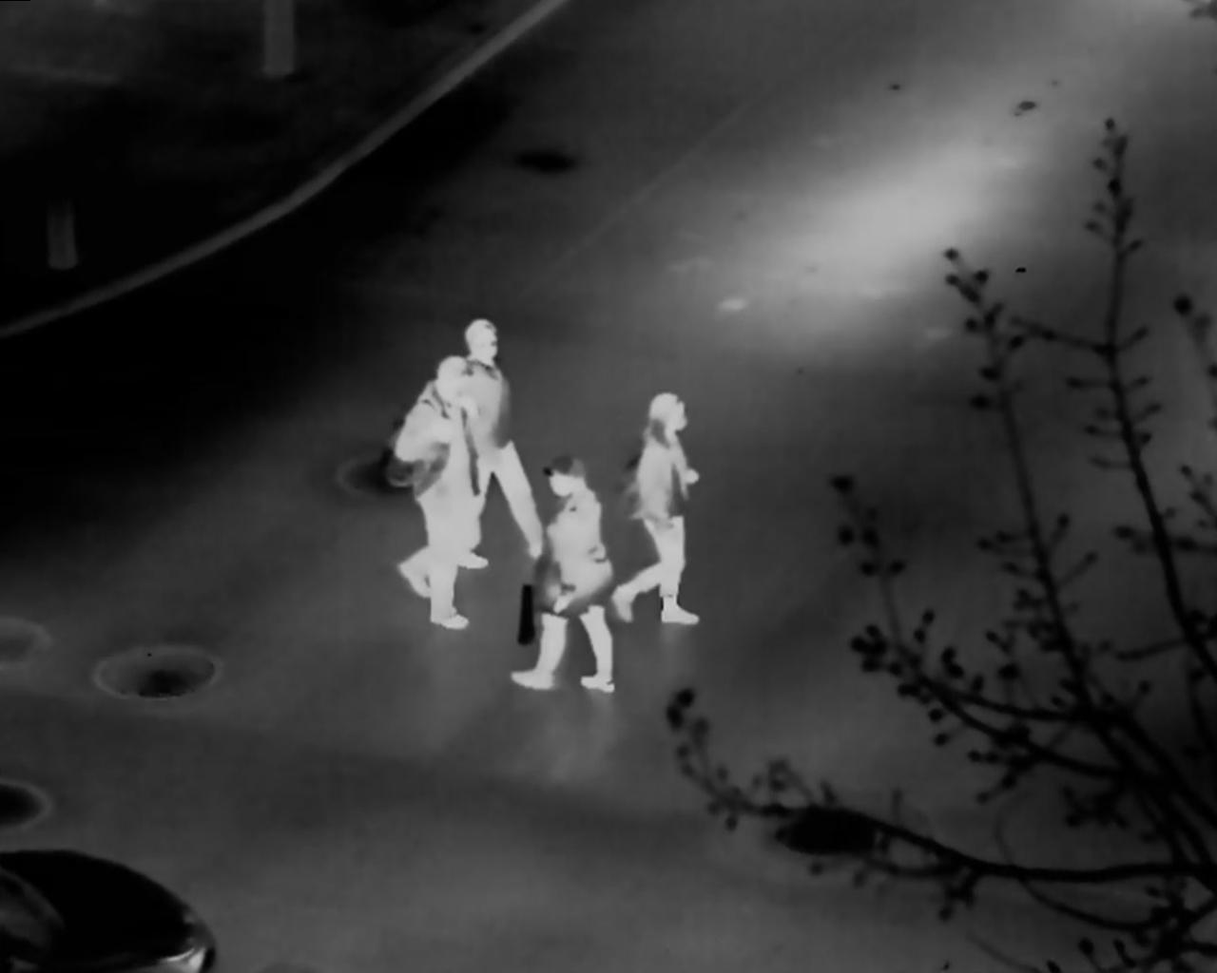person: (381, 355, 472, 631), (512, 457, 616, 696), (455, 317, 549, 568), (611, 390, 703, 626)
